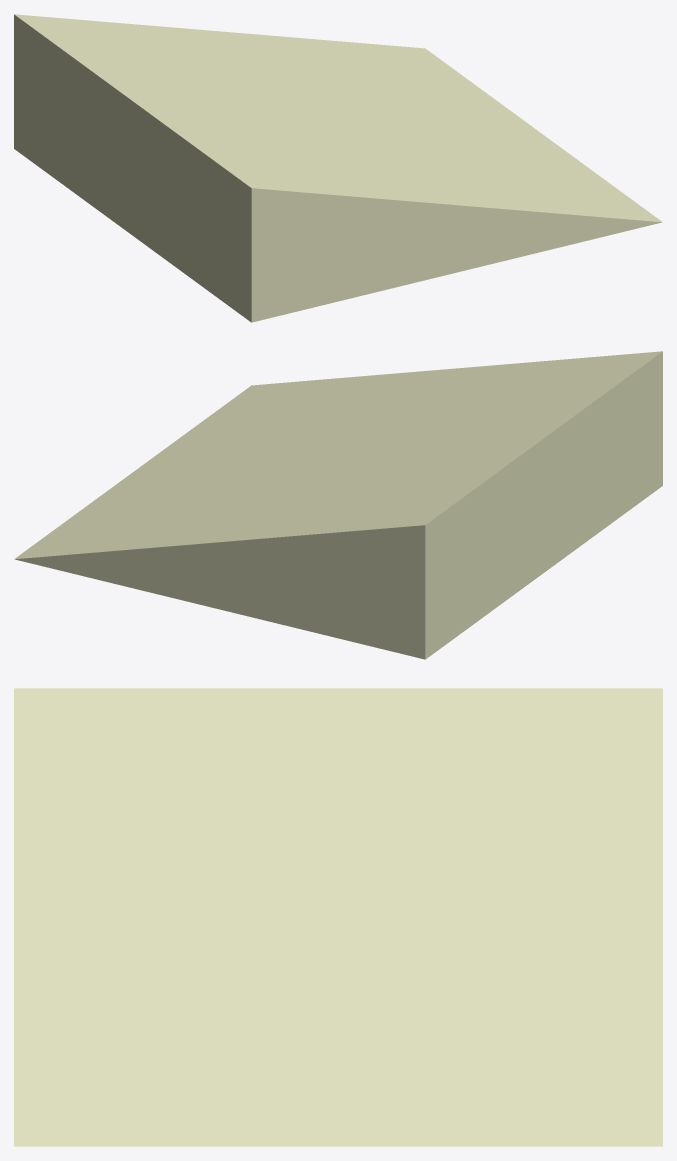
Rendered from untitled_game.glb.
3 views of the same model, one above another, from view 1: azimuth 30°, elevation 25°; view 2: azimuth 150°, elevation 25°; view 3: azimuth 270°, elevation 25° (orthographic). The views are drawn at different scales.
Visible parts, largest first — view 1: Ramp_Object; view 2: Ramp_Object; view 3: Ramp_Object.
Boxes of the visible parts, x1,y1,x2,y2 form: Ramp_Object: (14,14,662,322); Ramp_Object: (14,351,662,659); Ramp_Object: (14,688,662,1146).
Size of what is drawn, in the model's own units: 8 by 2.5 by 8.
